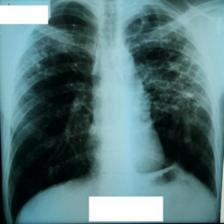tuberculosis: (5, 1, 220, 224)
